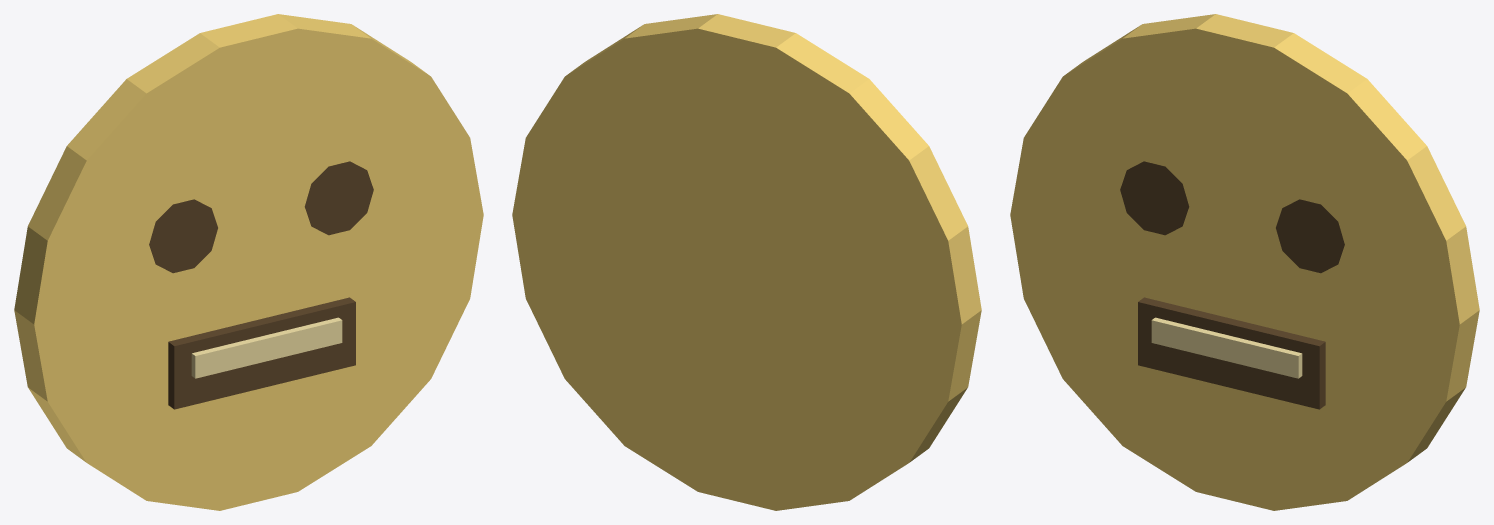
Rendered from grin.glb.
3 renders of one model, left to right at view 1: azimuth 30°, elevation 25°; view 2: azimuth 150°, elevation 25°; view 3: azimuth 330°, elevation 25°, orthographic.
Visible parts, largest first — view 1: grin; view 2: grin; view 3: grin.
Boxes of the visible parts, <box> form: grin: <box>14,14,483,510</box>; grin: <box>512,14,981,510</box>; grin: <box>1010,14,1479,510</box>.
Size of the model in its own units: 1.04 by 1.02 by 0.12.
